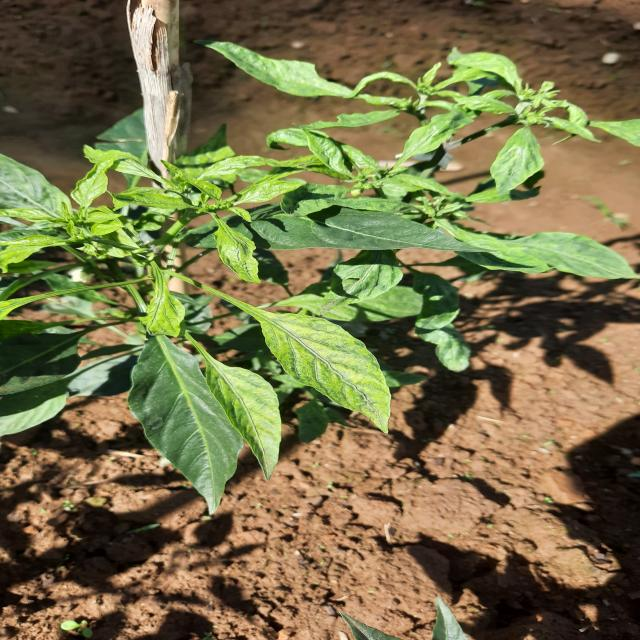thrips: (235, 305, 425, 441), (191, 346, 306, 482), (208, 223, 269, 286), (138, 287, 190, 339), (70, 160, 122, 209), (235, 180, 311, 203)
